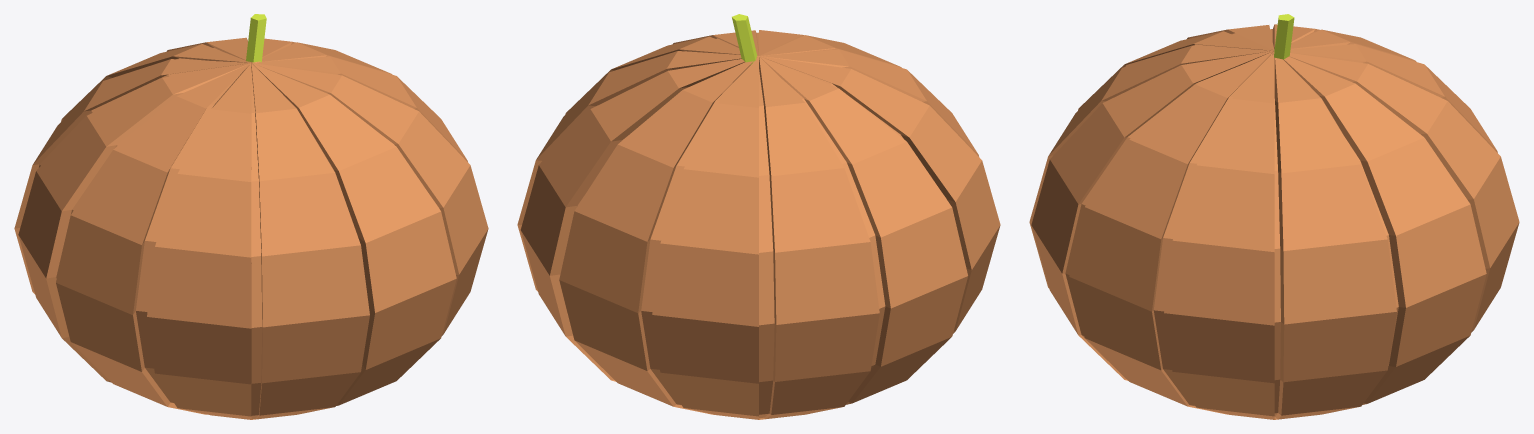
Rendered from pumpkin01.fbx.
3 views of the same model, side by side, from view 1: azimuth 30°, elevation 25°; view 2: azimuth 150°, elevation 25°; view 3: azimuth 270°, elevation 25° (orthographic). The views are drawn at different scales.
Visible parts, largest first — view 1: Cylinder.004; view 2: Cylinder.004; view 3: Cylinder.004.
Boxes of the visible parts, x1,y1,x2,y2 form: Cylinder.004: [14, 14, 488, 419]; Cylinder.004: [517, 14, 1000, 419]; Cylinder.004: [1029, 14, 1519, 419].
Bounding box in the file's own units: 0.2128 × 0.1832 × 0.2128.
